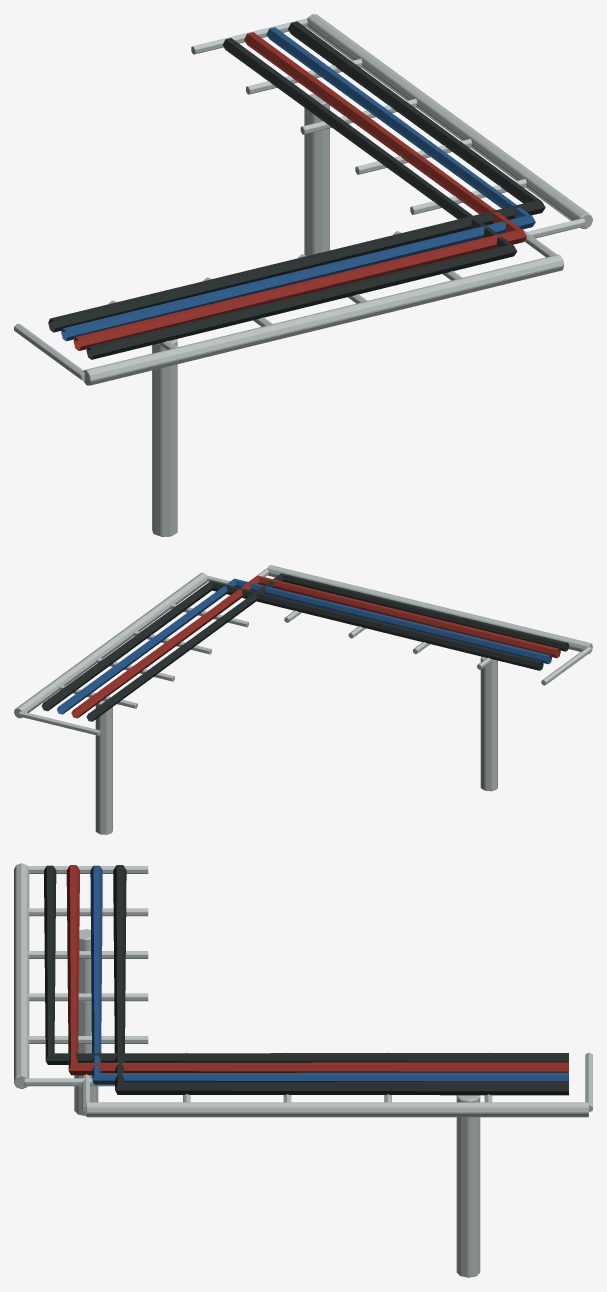
Rendered from runtime.glb.
The picture shows the model from 3 angles, top to bottom: view 1: azimuth 30°, elevation 25°; view 2: azimuth 150°, elevation 25°; view 3: azimuth 270°, elevation 25°; orthographic projection. The views are drawn at different scales.
Visible parts, largest first — view 1: reactor-cable-tray-v04_nocol; view 2: reactor-cable-tray-v04_nocol; view 3: reactor-cable-tray-v04_nocol.
Part boxes in pixels (x1,y1,x2,y2): reactor-cable-tray-v04_nocol: [14, 14, 592, 536]; reactor-cable-tray-v04_nocol: [14, 565, 592, 834]; reactor-cable-tray-v04_nocol: [14, 863, 592, 1277].
Bounding box in the file's own units: 3.27 × 1.27 × 3.27.
